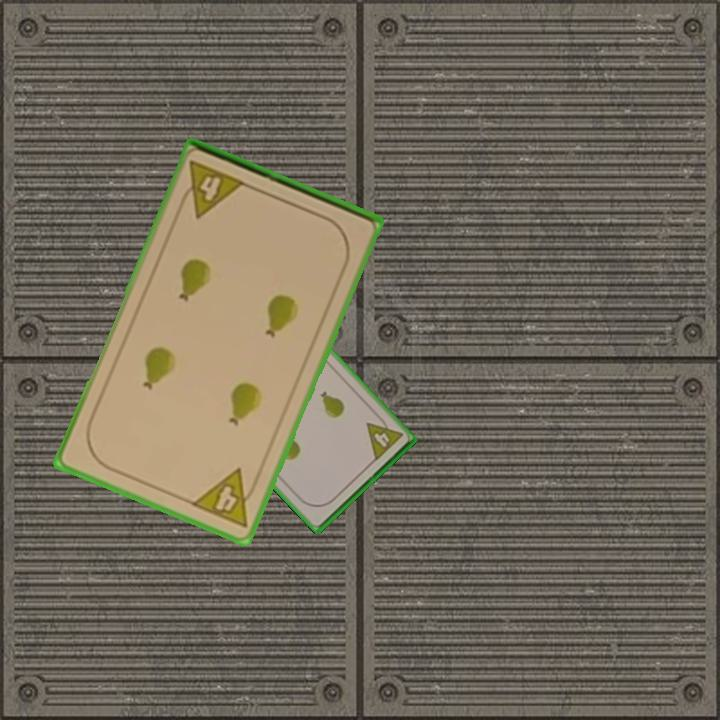4p: (187, 465, 263, 531), (174, 157, 249, 221), (362, 411, 405, 464)
